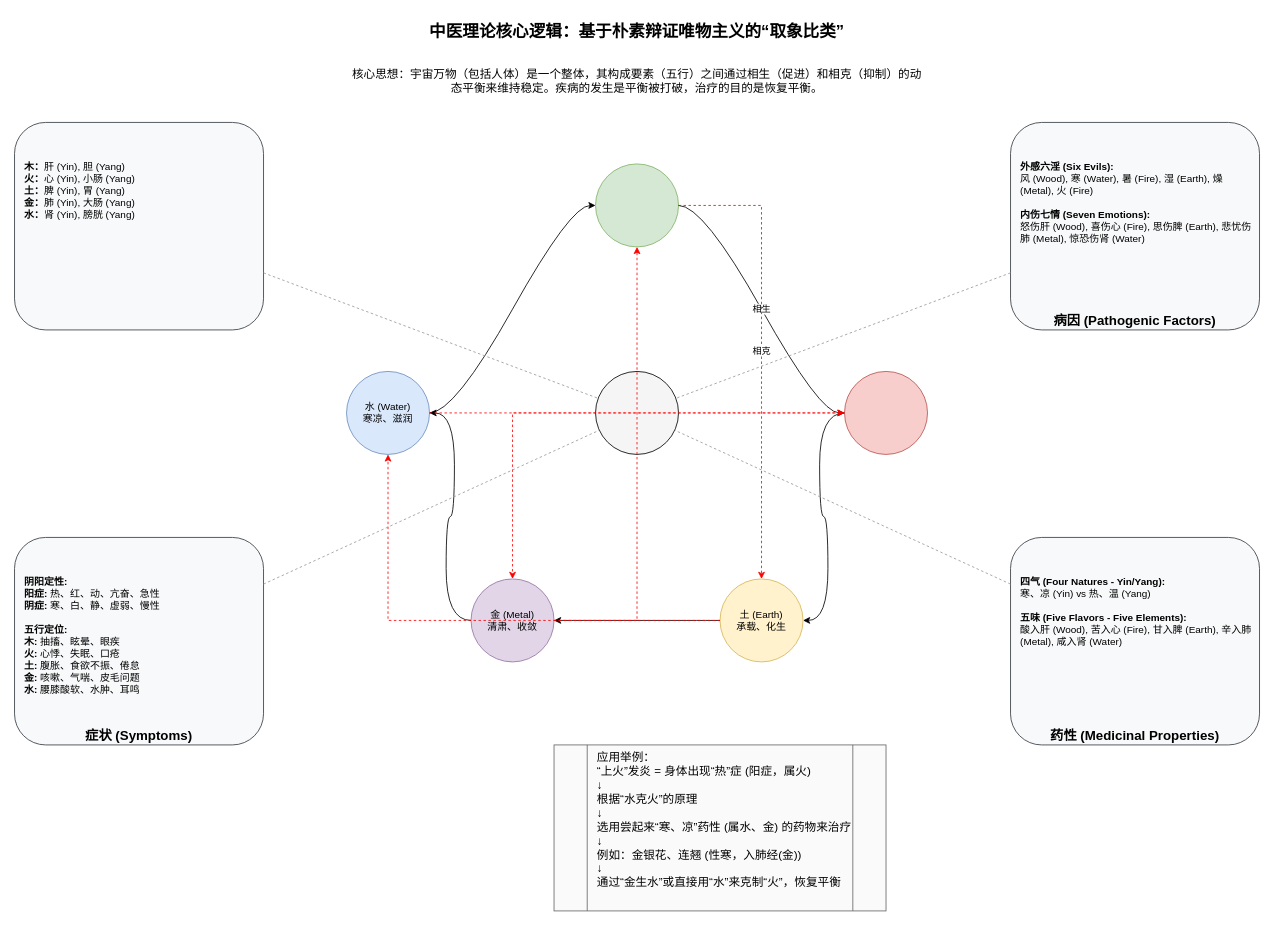
The diagram is 1274 pixels wide and 925 high, and some of its shapes have lost their labels. The box of each missing label's shape, as (x1, y1, x2, y2) in pixels:
木 (Wood) 生发、条达: (595, 163, 679, 247)
火 (Fire) 温热、向上: (844, 371, 928, 454)
脏腑 (Zang-fu Organs): (14, 122, 264, 330)
阴阳 Yin-Yang: (595, 371, 679, 454)
